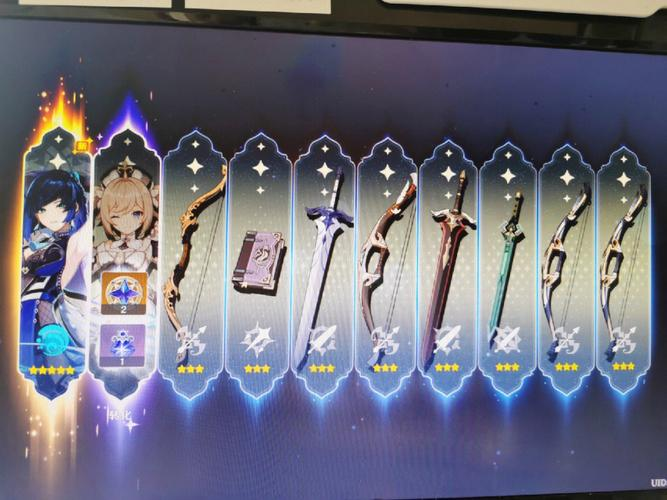夜兰: (23, 165, 85, 384)
